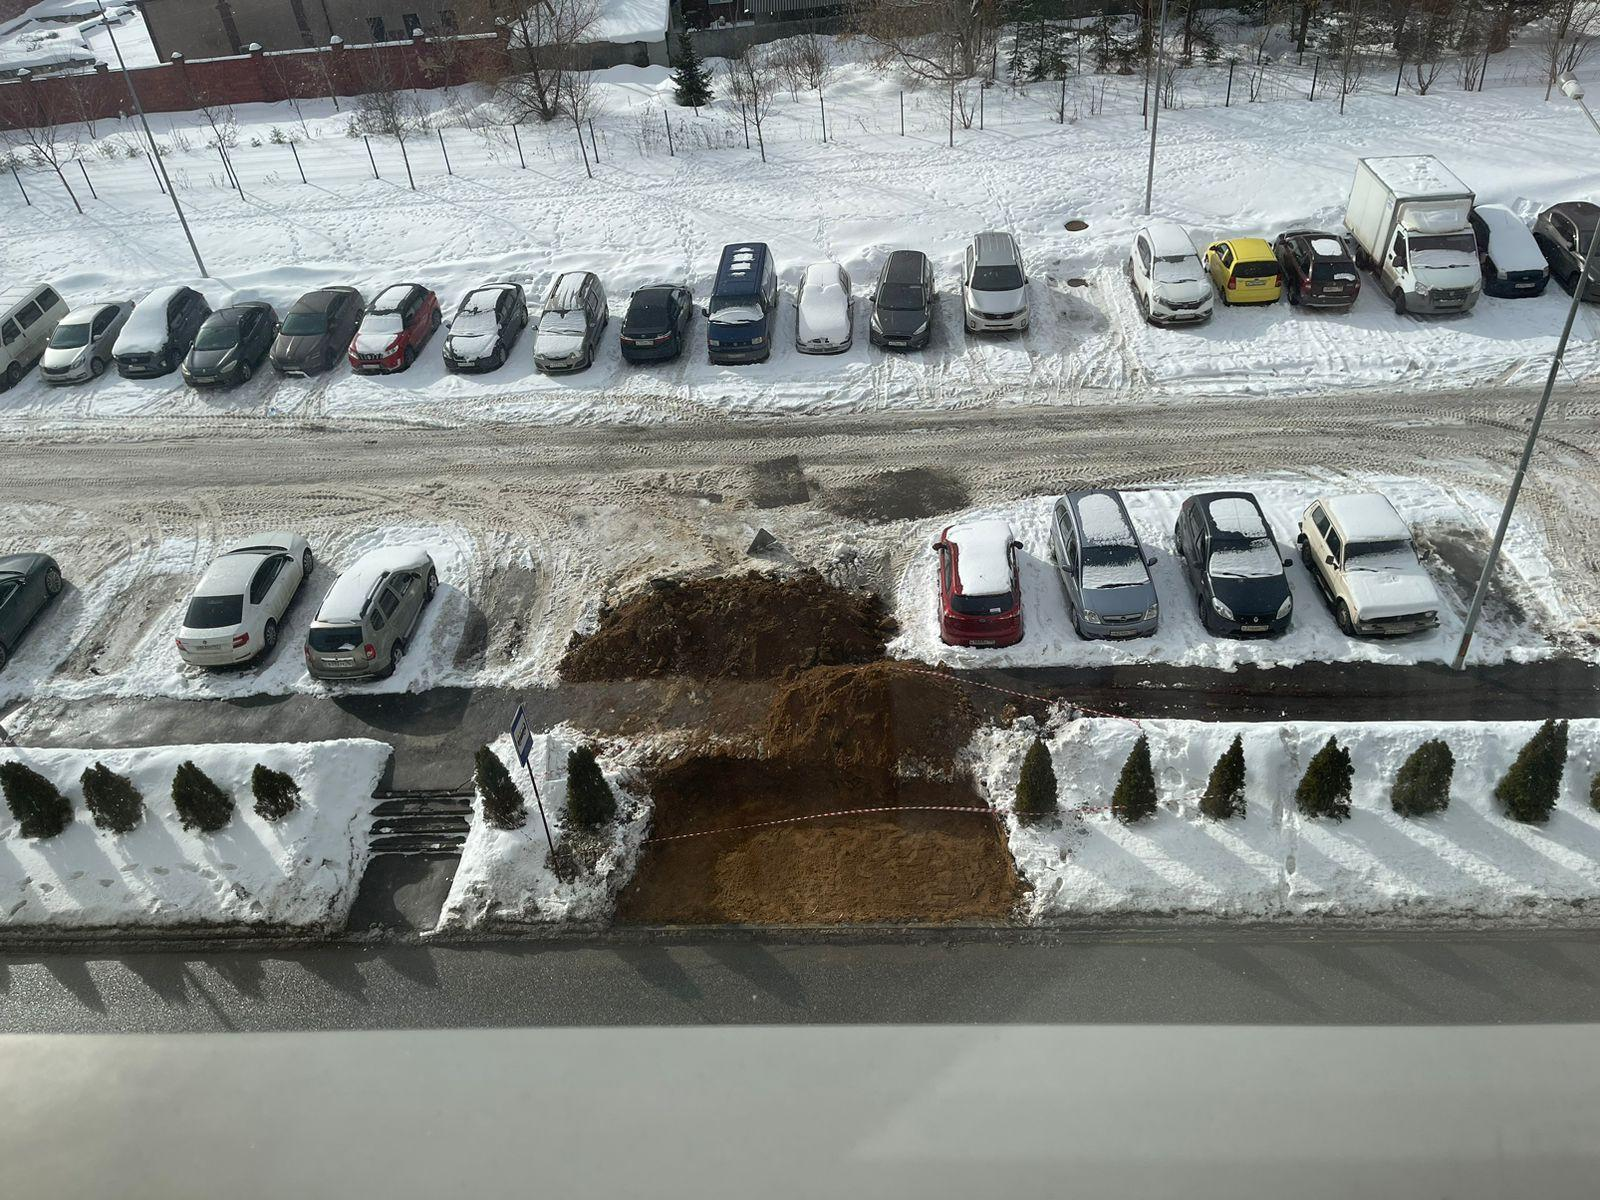empty: (1300, 485, 1446, 639), (1175, 488, 1310, 645), (306, 539, 454, 683), (1357, 173, 1493, 325), (170, 534, 312, 676), (1047, 494, 1172, 640), (932, 516, 1038, 658), (689, 243, 795, 366), (944, 236, 1044, 349), (1123, 228, 1225, 330), (31, 291, 131, 386), (265, 284, 364, 378), (341, 282, 441, 374), (184, 296, 280, 391), (107, 290, 200, 386), (854, 251, 937, 357), (524, 275, 612, 374), (438, 279, 527, 374), (0, 268, 62, 402), (1, 546, 60, 684), (611, 277, 698, 369), (1277, 223, 1362, 315), (790, 252, 853, 366), (1212, 228, 1293, 314), (13, 3, 156, 49), (1540, 198, 1596, 301)
occupied: (1431, 500, 1540, 637), (67, 558, 176, 669), (1046, 261, 1125, 345)
